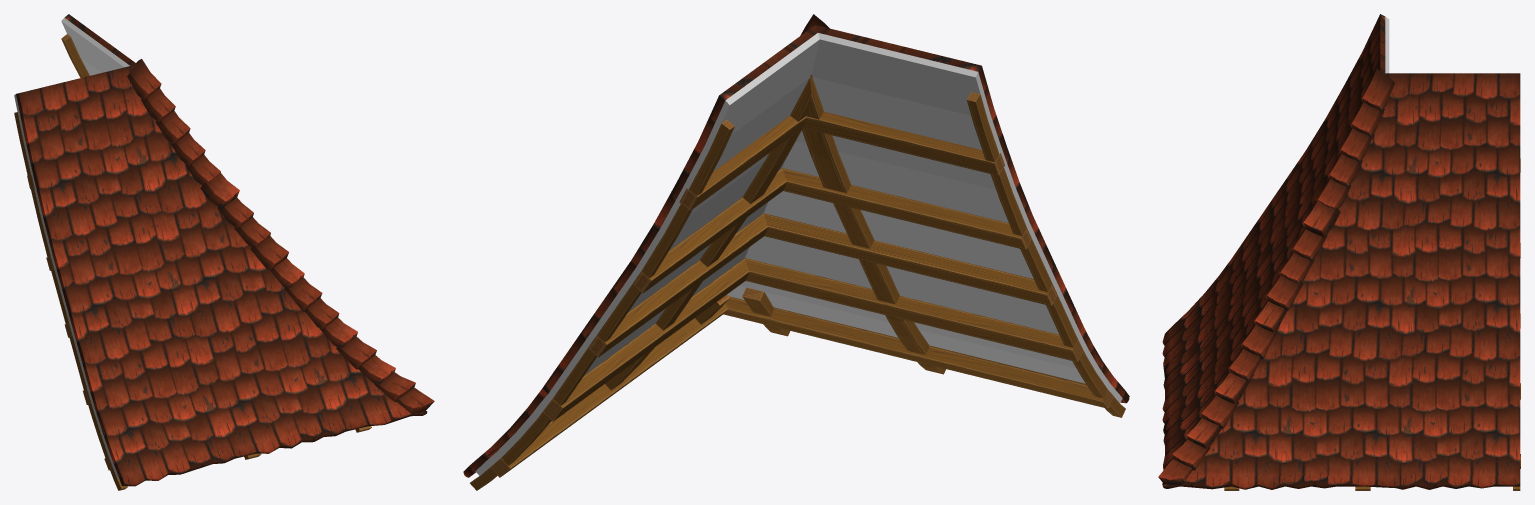
Rendered from SM_House_Roof_01_Corner_Outer_Extended.fbx.
3 views of the same model, side by side, from view 1: azimuth 30°, elevation 25°; view 2: azimuth 150°, elevation 25°; view 3: azimuth 270°, elevation 25° (orthographic). The views are drawn at different scales.
Parts seen in each view (by area): view 1: SM_House_Roof_01_Corner_Outer_Extended; view 2: SM_House_Roof_01_Corner_Outer_Extended; view 3: SM_House_Roof_01_Corner_Outer_Extended.
Part boxes in pixels (bbox=[...]): SM_House_Roof_01_Corner_Outer_Extended: bbox=[14, 14, 434, 490]; SM_House_Roof_01_Corner_Outer_Extended: bbox=[463, 14, 1129, 490]; SM_House_Roof_01_Corner_Outer_Extended: bbox=[1158, 14, 1520, 490].
Size of the model in its own units: 6.92 by 7.1 by 6.91.
